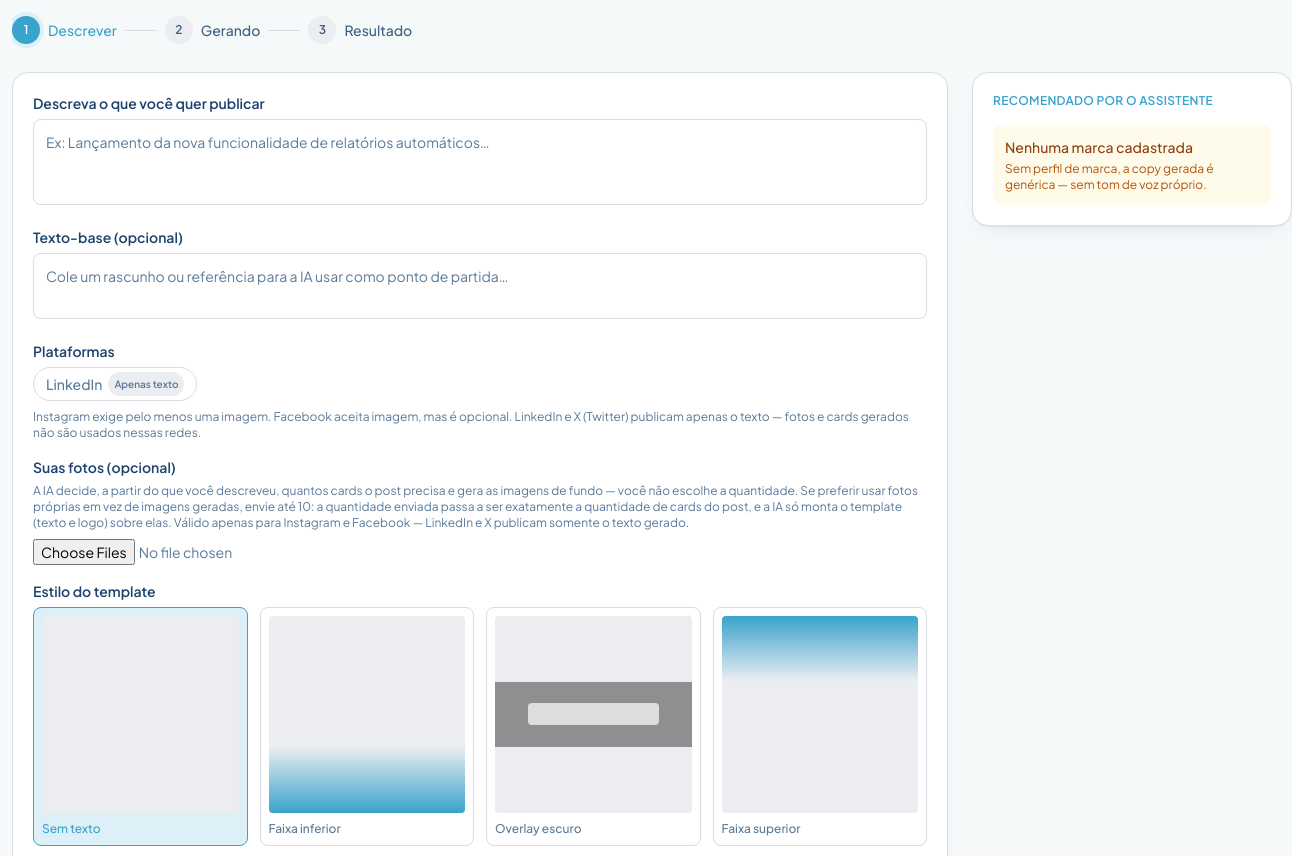
Test: GenerateContentPage › exibe o status de cada artefato em um carrossel com falha parcial
In the text box with placeholder "Lançamento da nova funcionalidade": (480, 162) [33,119,927,205], type "Lançamento X"
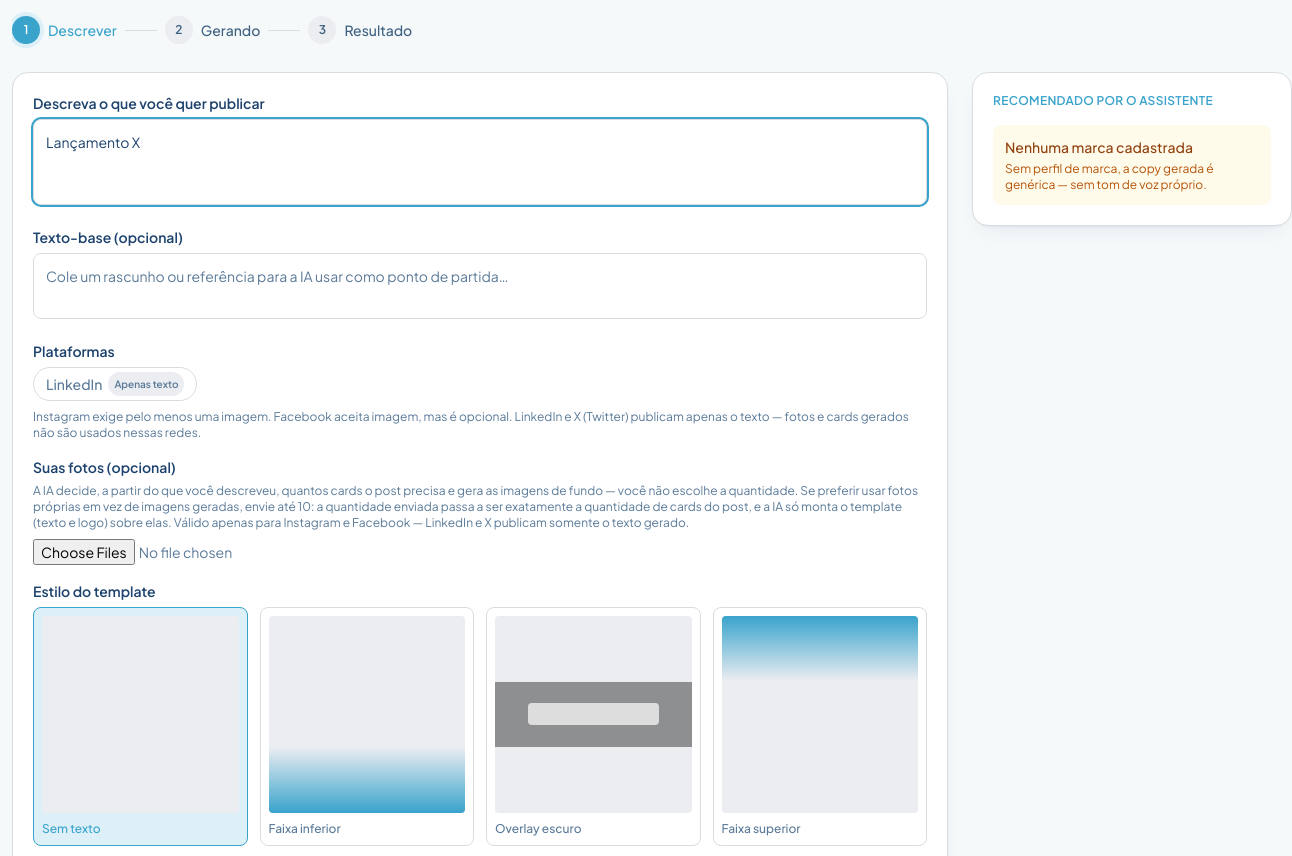
Click the button "LinkedIn Apenas texto": (115, 384) [33,367,198,401]
(page scrolled)
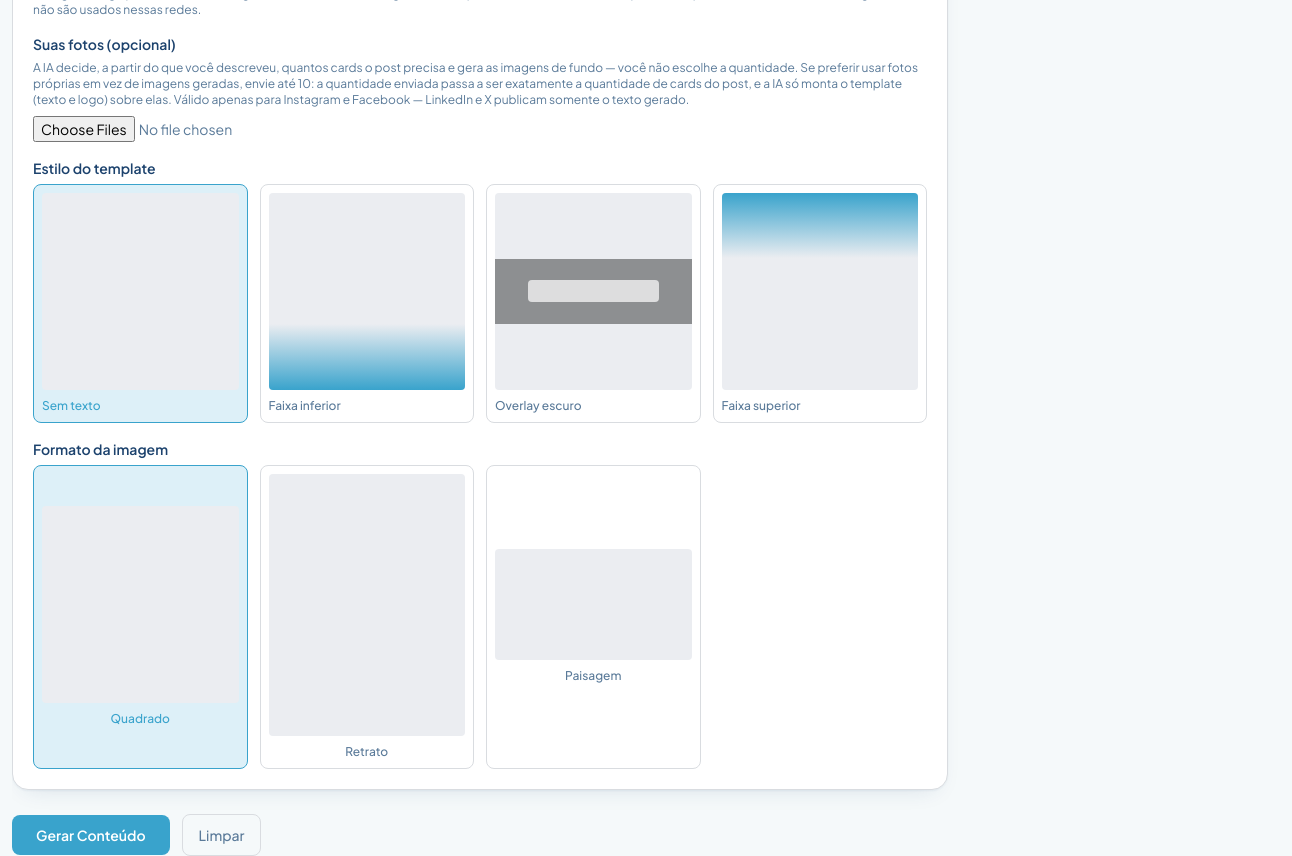
Click the button "Gerar Conteúdo": (91, 834) [12,814,170,854]
(page scrolled)
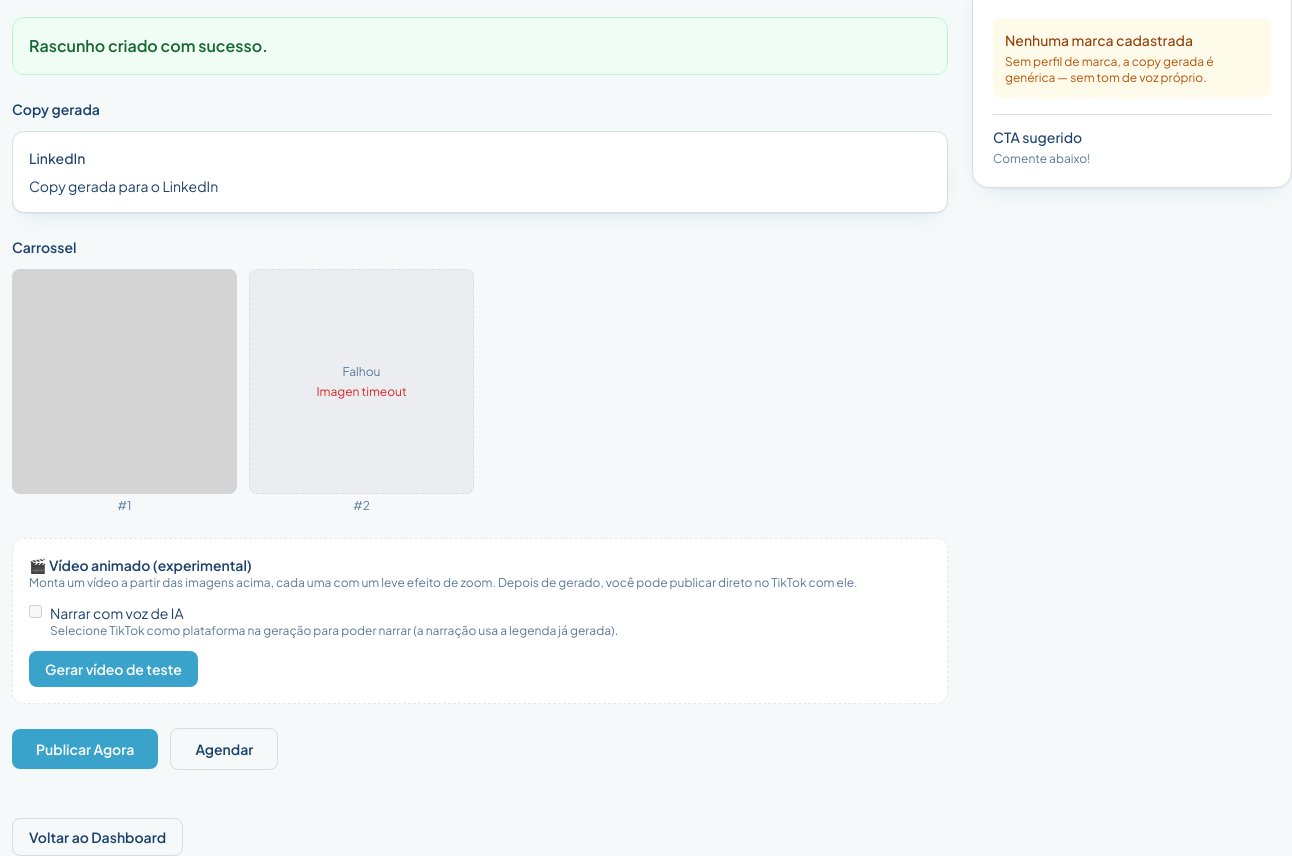
Expected: the heading "Carrossel" is shown, [12,238,76,256]
Expected: the text "Falhou" is shown, [343,364,380,380]
Expected: the text "Rascunho criado com sucesso." is shown, [29,35,268,56]
